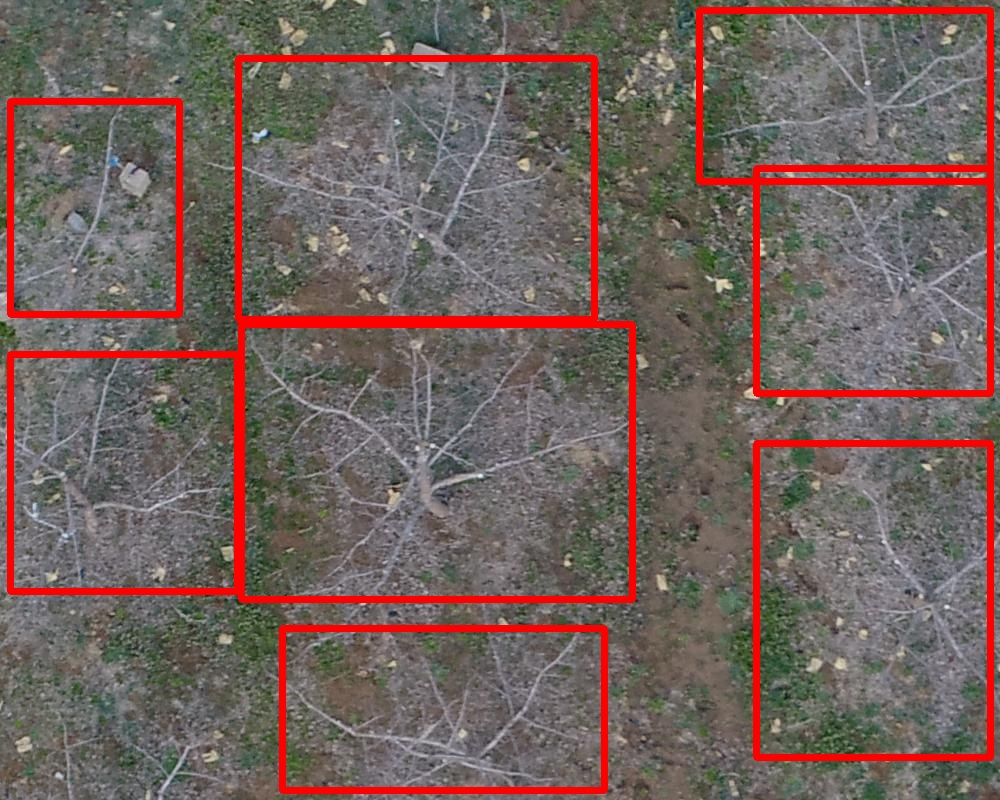apple: (241, 324, 632, 599), (238, 58, 594, 319), (756, 443, 990, 757), (10, 354, 237, 591), (756, 168, 990, 393), (282, 628, 604, 790), (699, 10, 990, 181), (10, 101, 179, 314)
